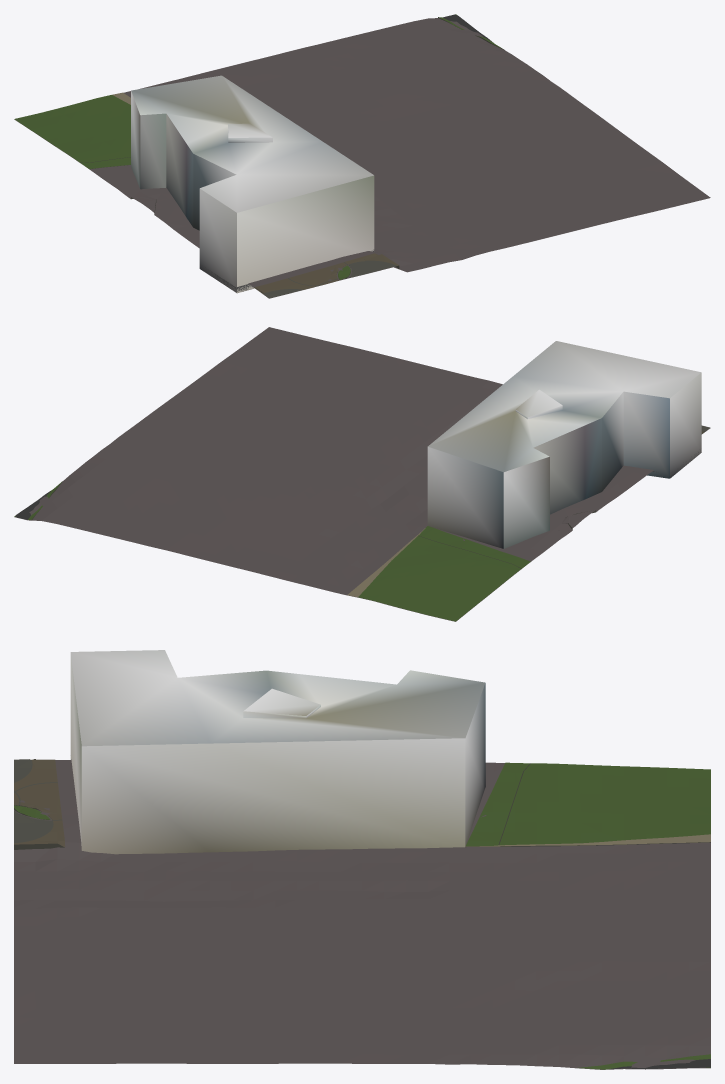
3 renders of one model, top to bottom at view 1: azimuth 30°, elevation 25°; view 2: azimuth 150°, elevation 25°; view 3: azimuth 270°, elevation 25°, orthographic. The views are drawn at different scales.
Parts seen in each view (by area): view 1: c_m06_m07; view 2: c_m06_m07; view 3: c_m06_m07.
Part boxes in pixels (x1,y1,x2,y2): c_m06_m07: (14,14,710,298); c_m06_m07: (14,327,710,621); c_m06_m07: (14,650,710,1069).
Bounding box in the file's own units: 132 × 24.85 × 128.
